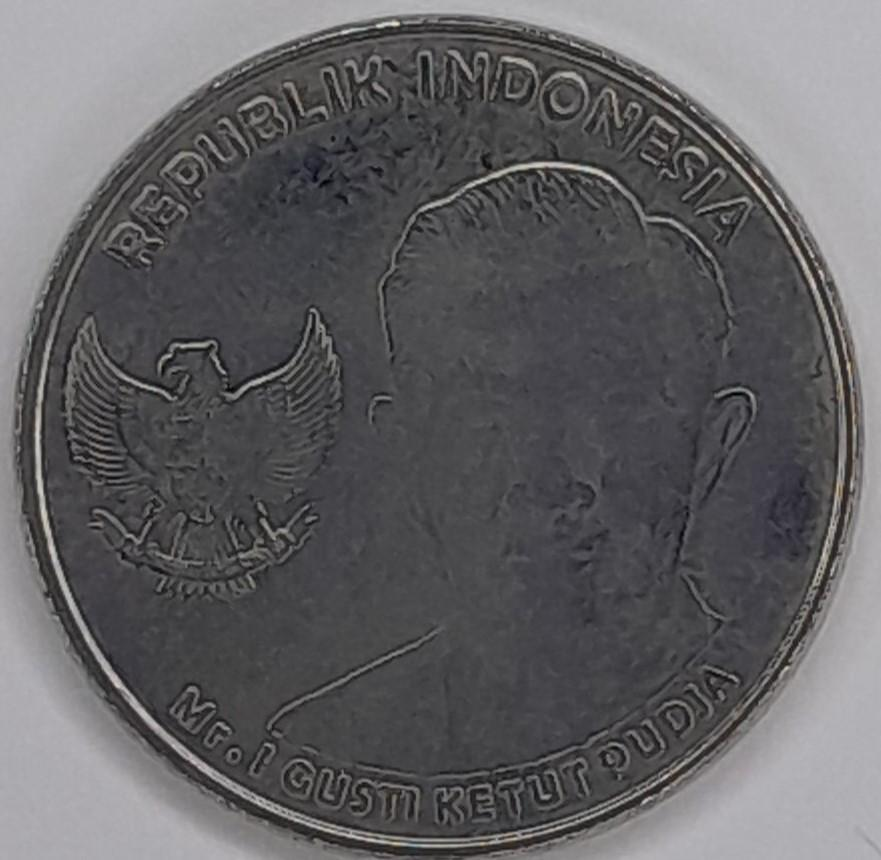coin_1000_e2016: (15, 17, 869, 860)
